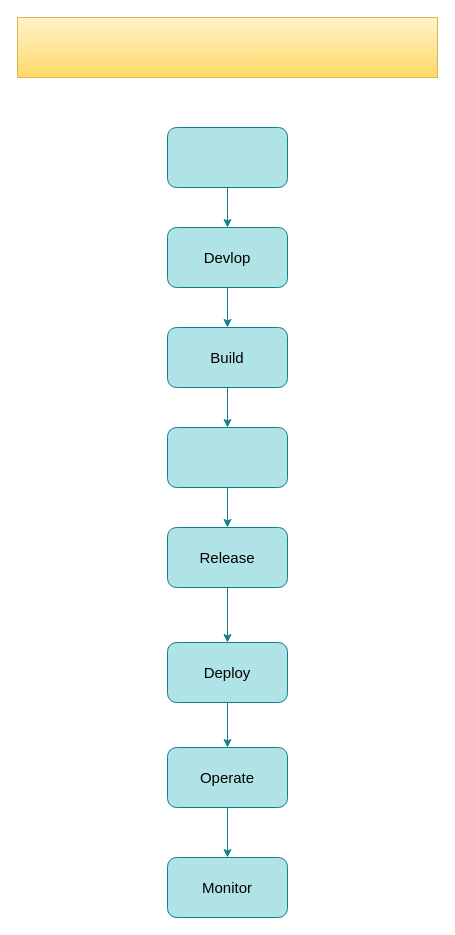
Some shapes in this 455 by 935 pixel diagram are drawn without their labels. Here are the shapes that lost their labels. From the top down, the centre of each, then its label:
[227,47]: DevOps life cycle diagram
[227,157]: Plan
[227,457]: Test
